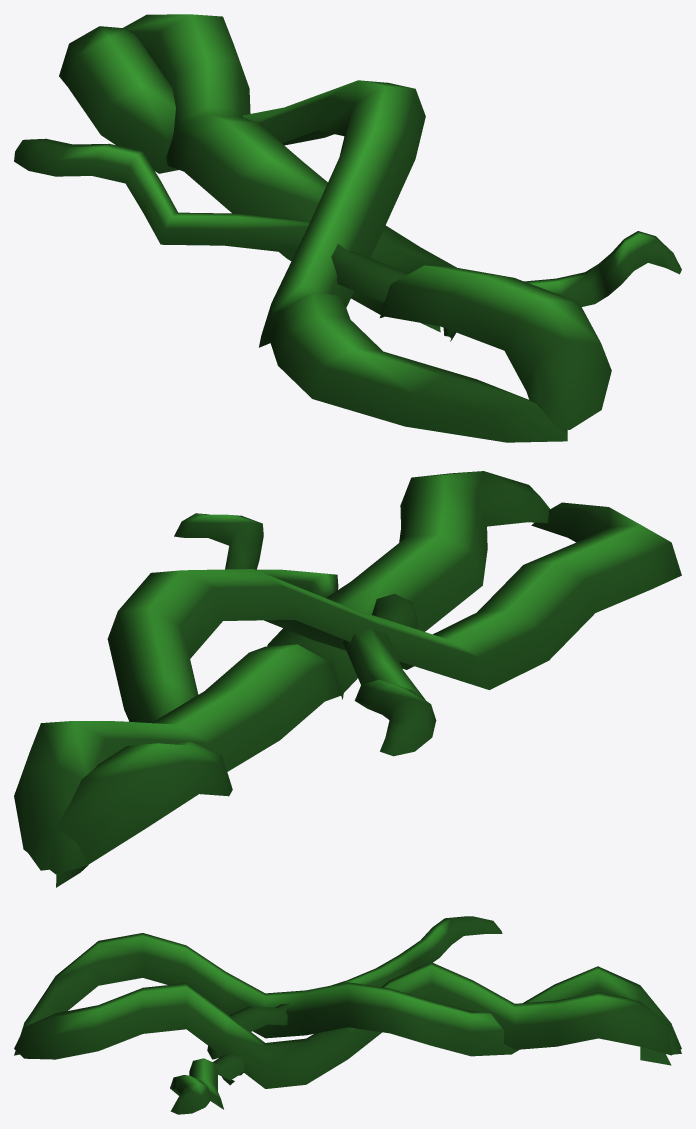
The model's file is vine6.fbx.
3 renders of one model, top to bottom at view 1: azimuth 30°, elevation 25°; view 2: azimuth 150°, elevation 25°; view 3: azimuth 270°, elevation 25°, orthographic. The views are drawn at different scales.
Visible parts, largest first — view 1: pCube92; view 2: pCube92; view 3: pCube92.
Boxes of the visible parts, x1,y1,x2,y2 form: pCube92: (14, 14, 681, 442); pCube92: (14, 471, 681, 887); pCube92: (14, 916, 681, 1114).
Bounding box in the file's own units: 52.54 × 17.89 × 97.75.
